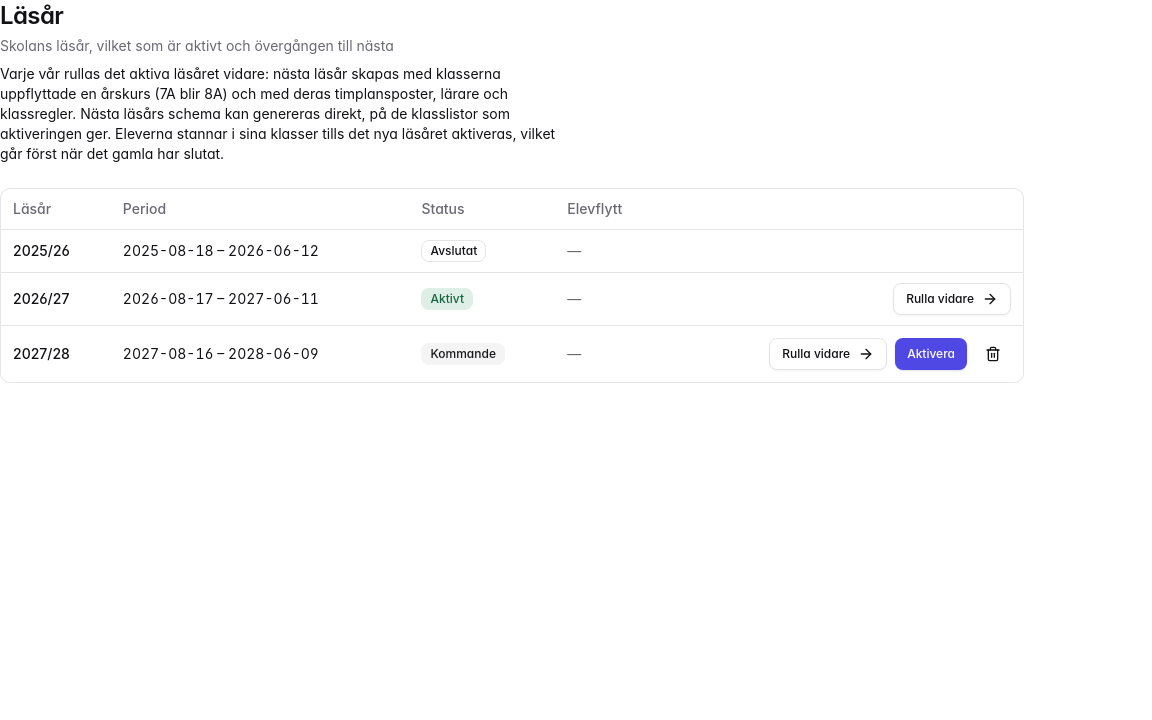
Scenario: YearsPage › warns that a year made by hand takes the flag but no pupils, and asks for a separate confirmation
Click the button "Aktivera". click: [931, 354]
box: [895,338,967,370]
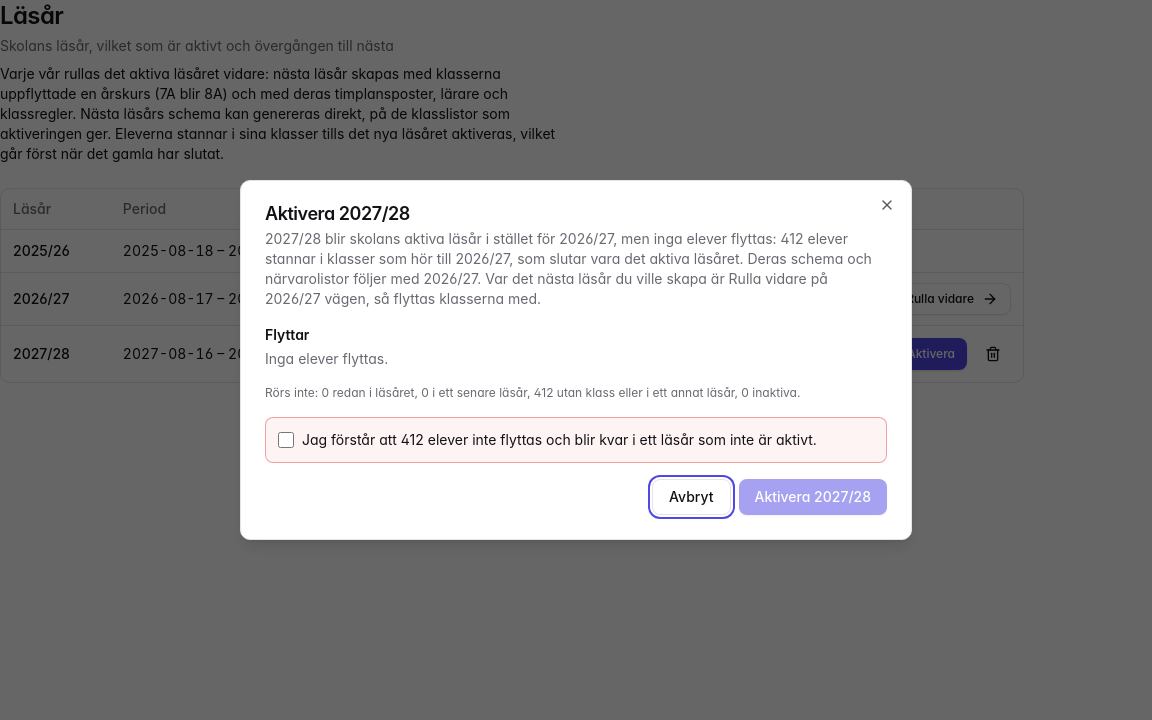
Expected: the text "2027/28 blir skolans aktiva läsår i stället för 2026/27, men inga elever flyttas: 412 elever stannar" is shown, [265,230,872,307]
Expected: the button "Aktivera 2027/28" is disabled, [738,479,887,515]
Click the checkbox labelled "Jag förstår att 412 elever inte flyttas". click: [286, 440]
box: [278,432,294,448]
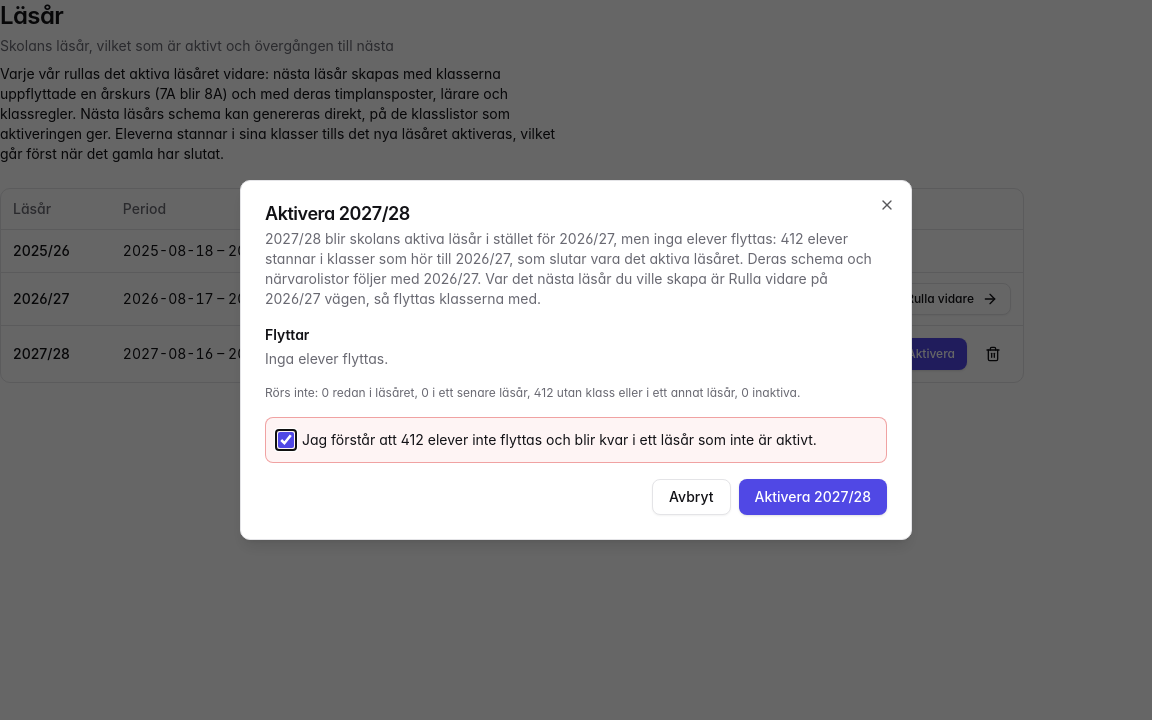
Expected: the button "Aktivera 2027/28" is enabled, [738,479,887,515]
